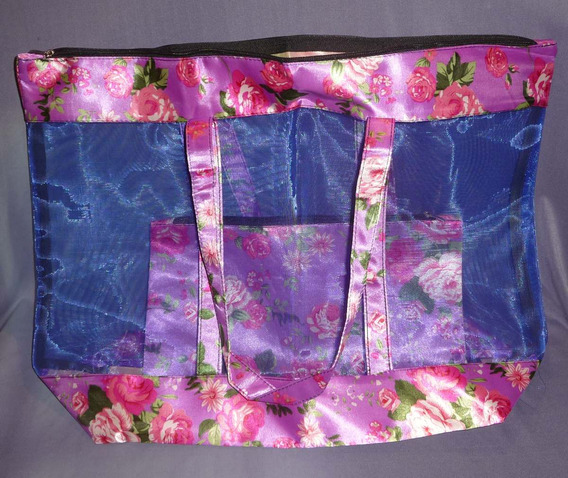cartera: (12, 32, 559, 450)
